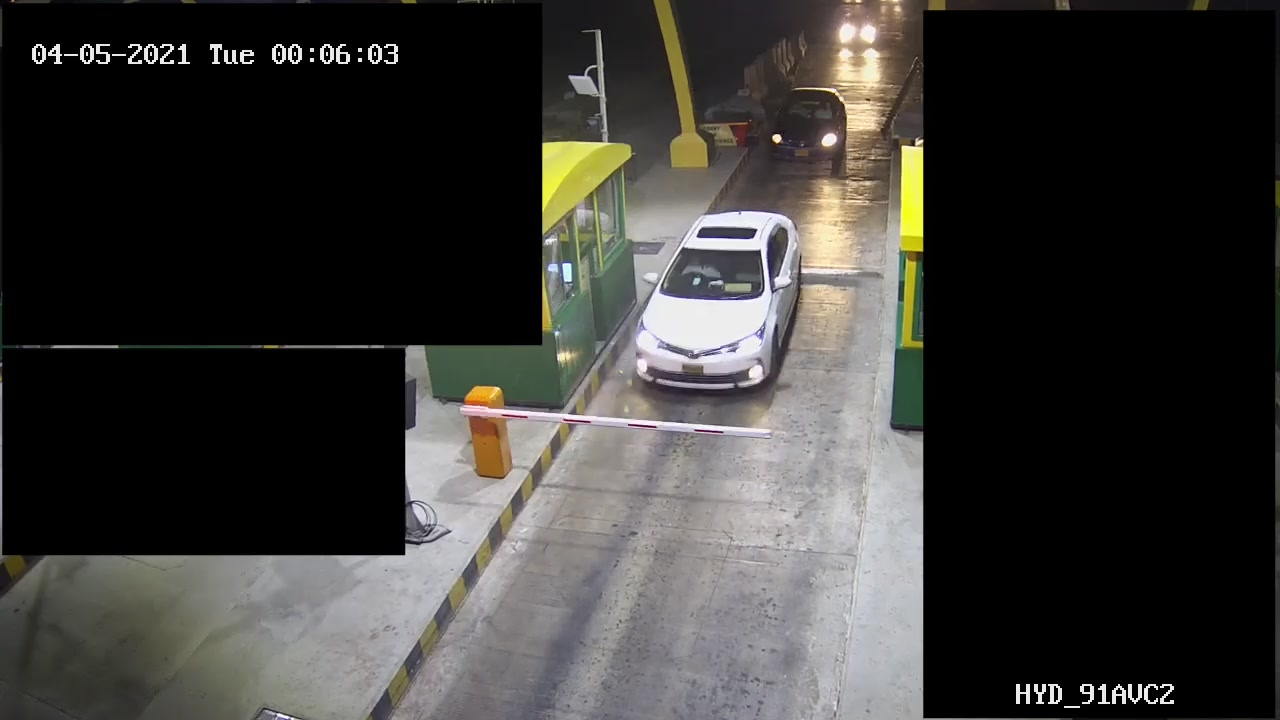F1: (631, 197, 805, 397)
